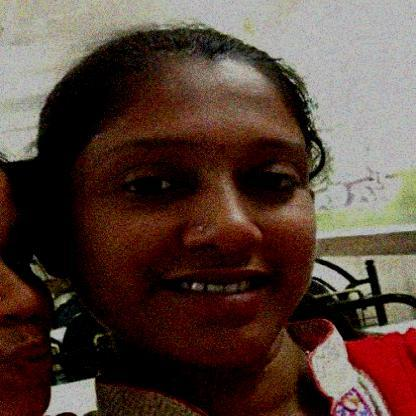without_mask: (84, 130, 325, 350)
